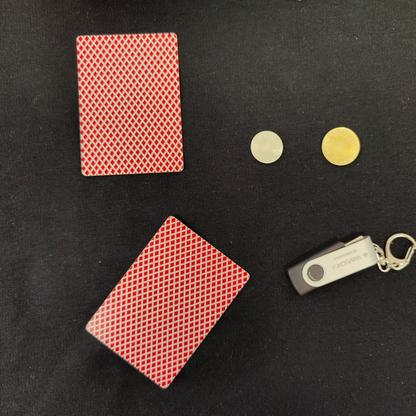card: (81, 212, 256, 391), (69, 27, 190, 182)
